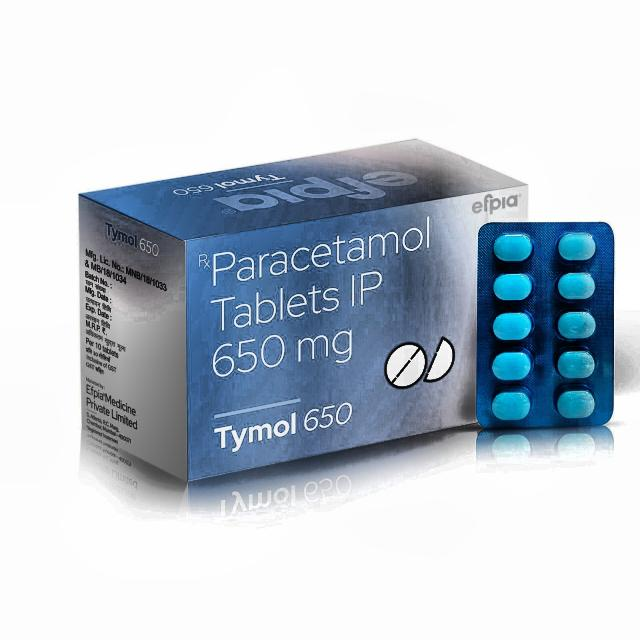Paracetamol: (182, 196, 455, 445)
